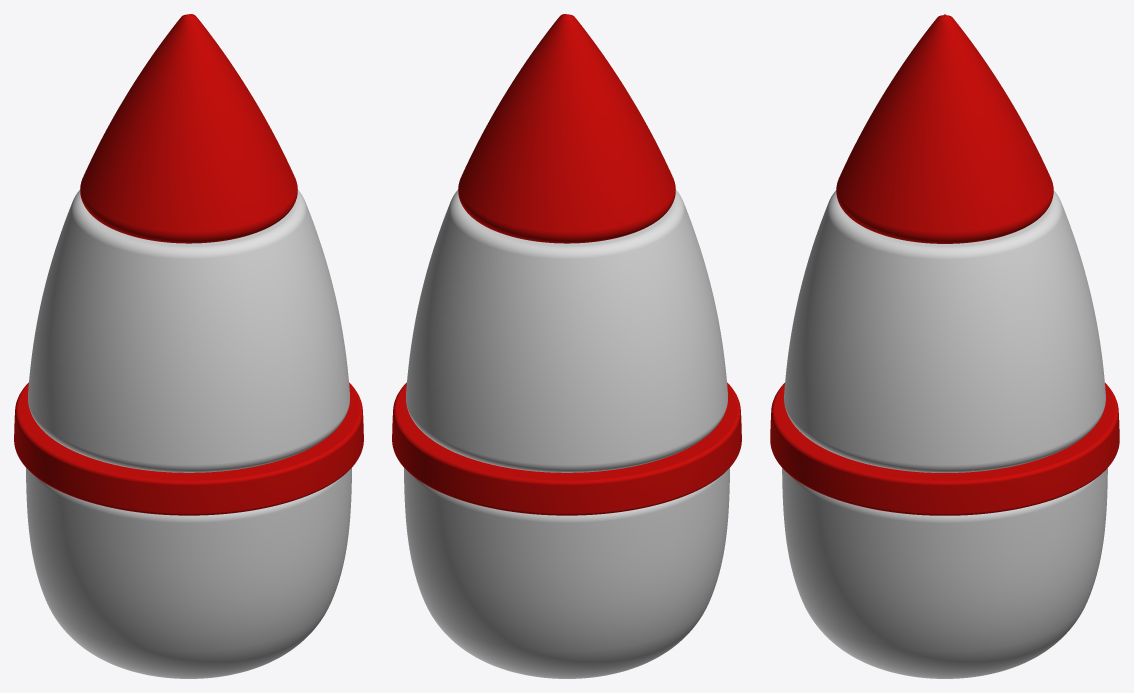
File: stage2.glb
3 views of the same model, side by side, from view 1: azimuth 30°, elevation 25°; view 2: azimuth 150°, elevation 25°; view 3: azimuth 270°, elevation 25° (orthographic).
Size of the model in its own units: 0.1376 by 0.2744 by 0.1376.
